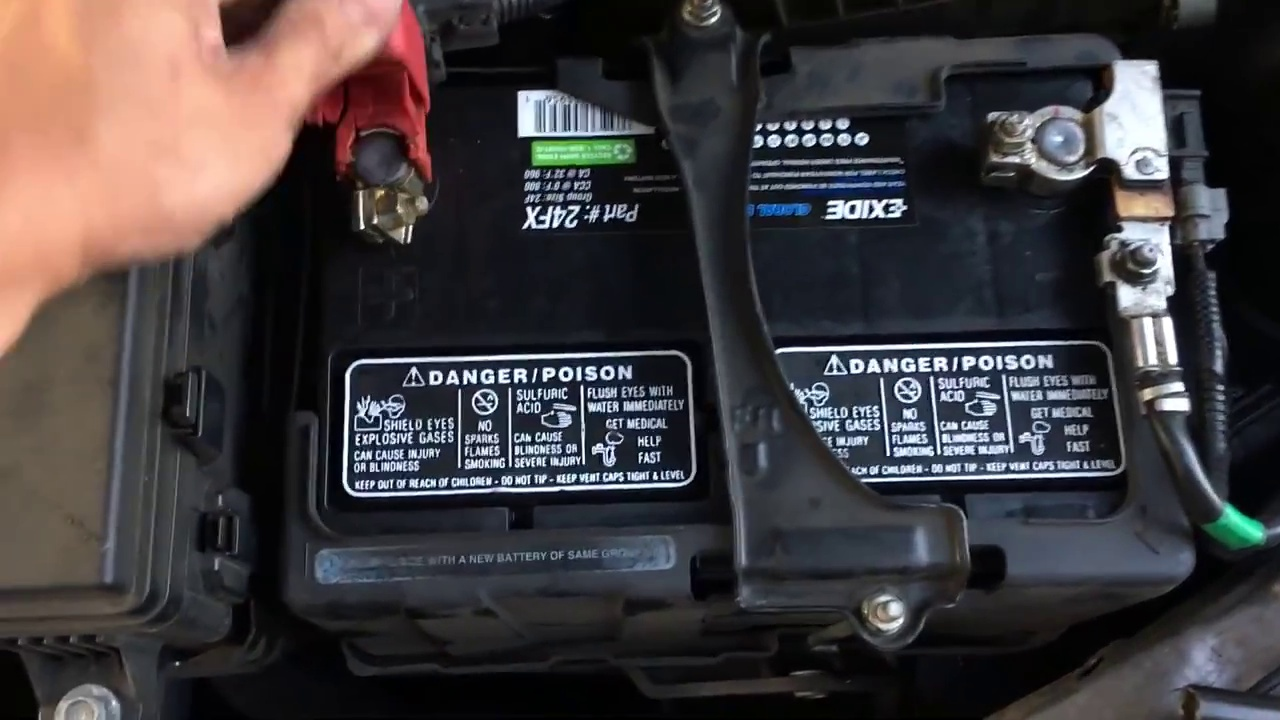battery: (240, 33, 1196, 596)
neg_connected: (965, 75, 1181, 213)
pos_connected: (294, 34, 452, 253)
pos_touched: (174, 1, 434, 239)
